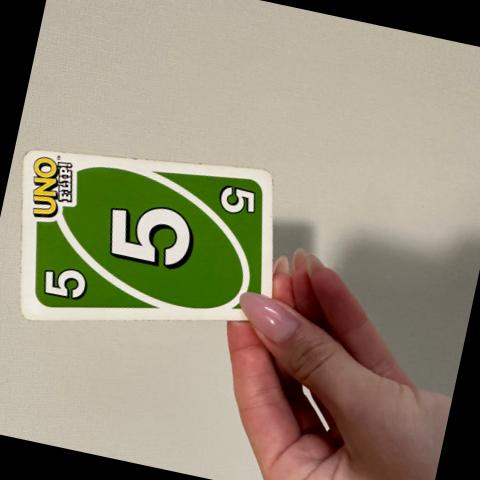reverse_blue: (109, 203, 195, 270), (43, 267, 87, 301), (218, 185, 256, 216)
